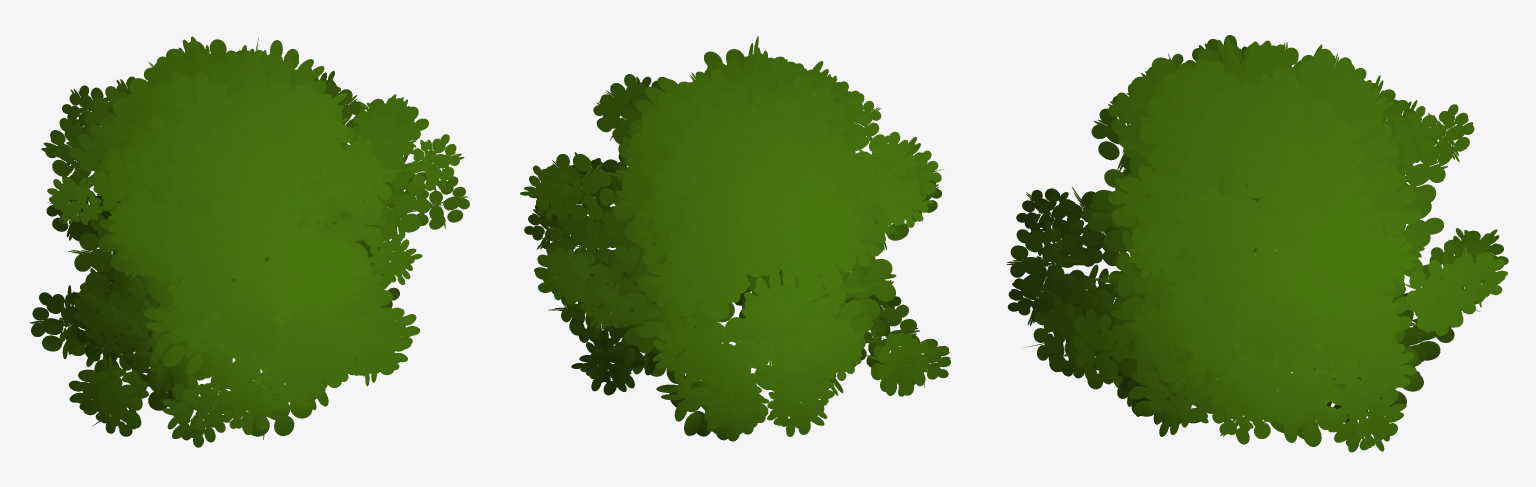
File: Bush_Large.glb
3 renders of one model, left to right at view 1: azimuth 30°, elevation 25°; view 2: azimuth 150°, elevation 25°; view 3: azimuth 270°, elevation 25°, orthographic. The views are drawn at different scales.
Visible parts, largest first — view 1: Bush_Large; view 2: Bush_Large; view 3: Bush_Large.
Boxes of the visible parts, x1,y1,x2,y2 form: Bush_Large: (29,36,469,447); Bush_Large: (520,36,950,441); Bush_Large: (1006,35,1508,452).
Size of the model in its own units: 3.6 by 3.25 by 3.67.
Materials: 1 (1 with a texture image).
